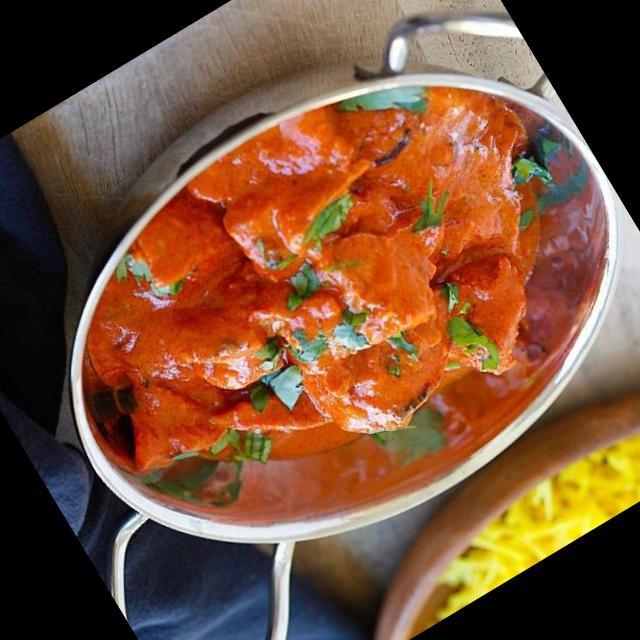chicken: (36, 8, 634, 534)
